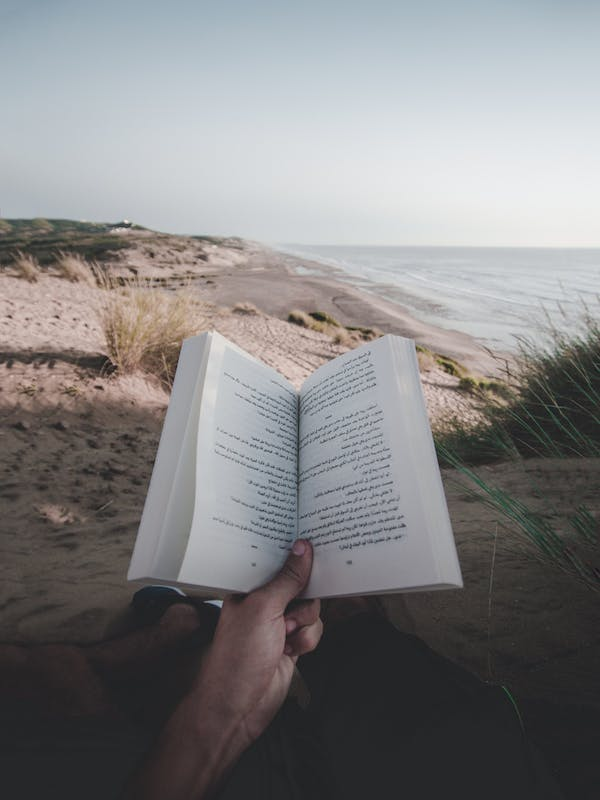book: (123, 322, 471, 598)
